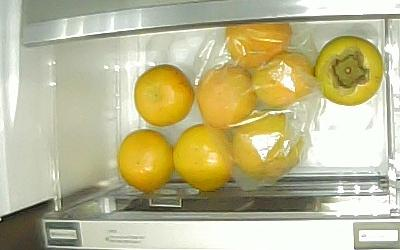persimmon: (314, 35, 383, 107), (174, 125, 231, 192), (116, 128, 173, 193), (134, 64, 193, 126)
persimmon_vinyl: (233, 111, 303, 180), (196, 63, 256, 127), (249, 51, 313, 106), (224, 22, 292, 69)
